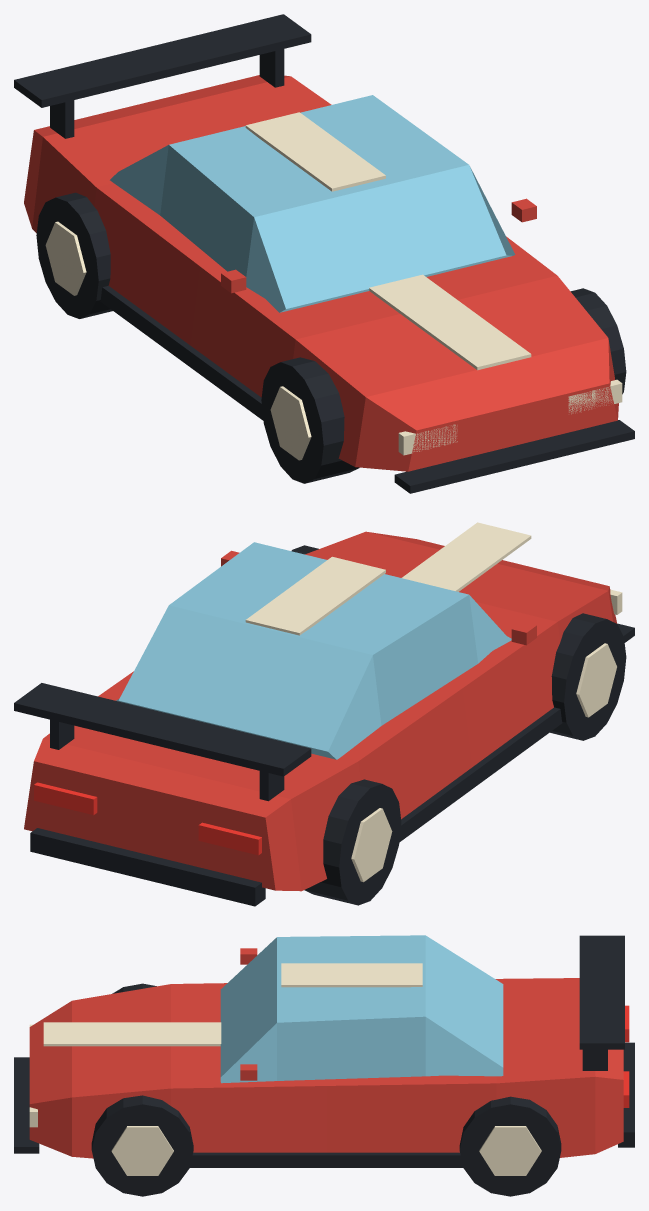
File: race_car.glb
3 views of the same model, one above another, from view 1: azimuth 30°, elevation 25°; view 2: azimuth 150°, elevation 25°; view 3: azimuth 270°, elevation 25° (orthographic). The views are drawn at different scales.
Visible parts, largest first — view 1: body, cabin, wing, wheel_FL, wheel_RL, hood_stripe, splitter, roof_stripe, side_skirt, wheel_FR, headlight, headlight.001 (+2 smaller); view 2: body, cabin, wing, wheel_RL, wheel_FL, diffuser, roof_stripe, hood_stripe, side_skirt, taillight.001, taillight, wing_post (+1 smaller); view 3: body, cabin, wheel_FR, wheel_RR, wing, hood_stripe, side_skirt.001, roof_stripe, splitter, diffuser, wing_post.001.
Part boxes in pixels (x1,y1,x2,y2): body: (24, 75, 618, 471); cabin: (110, 95, 515, 312); wing: (14, 14, 311, 107); wheel_FL: (261, 357, 359, 483); wheel_RL: (36, 192, 112, 318); hood_stripe: (369, 274, 531, 370); splitter: (394, 420, 634, 493); roof_stripe: (245, 112, 385, 191); side_skirt: (100, 286, 263, 420); wheel_FR: (570, 288, 626, 394); headlight: (398, 424, 457, 455); headlight.001: (568, 379, 622, 414); body: (24, 531, 617, 891); cabin: (116, 542, 511, 759); wing: (14, 683, 311, 776); wheel_RL: (304, 779, 401, 905); wheel_FL: (550, 613, 626, 740); diffuser: (30, 828, 265, 906); roof_stripe: (245, 556, 385, 635); hood_stripe: (402, 522, 531, 591); side_skirt: (399, 707, 562, 842); taillight.001: (34, 782, 97, 814); taillight: (198, 822, 261, 855); wing_post: (259, 771, 284, 801); body: (29, 978, 623, 1158); cabin: (220, 935, 503, 1083); wheel_FR: (91, 1095, 193, 1196); wheel_RR: (459, 1096, 561, 1196); wing: (579, 935, 624, 1049); hood_stripe: (43, 1022, 221, 1046); side_skirt.001: (190, 1152, 463, 1167); roof_stripe: (281, 963, 422, 987); splitter: (14, 1057, 39, 1153); diffuser: (618, 1042, 634, 1147); wing_post.001: (582, 1049, 607, 1070).
Bounding box in the file's own units: 2.06 × 1.26 × 4.39.
